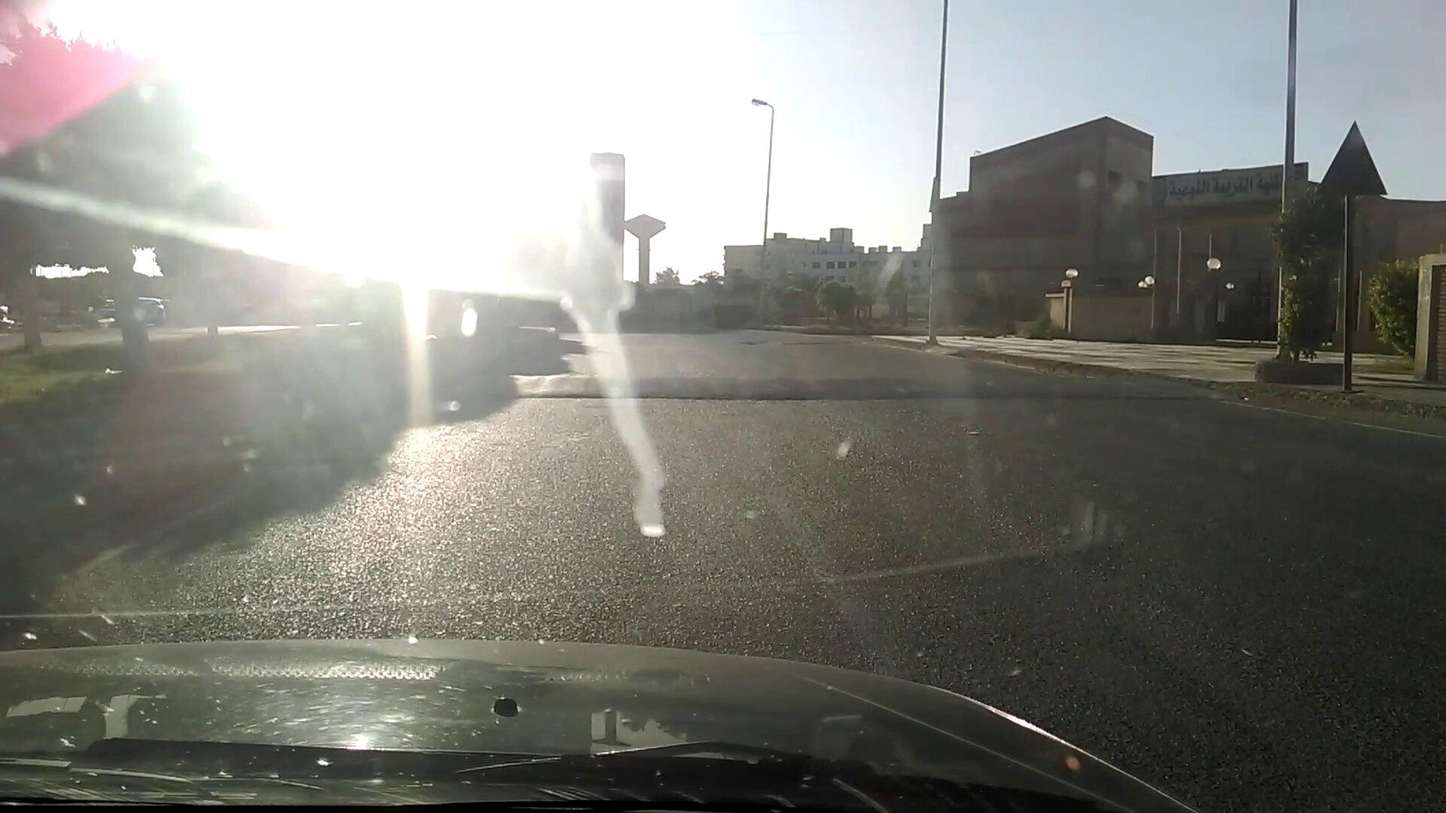Bump: (518, 373, 1169, 406)
